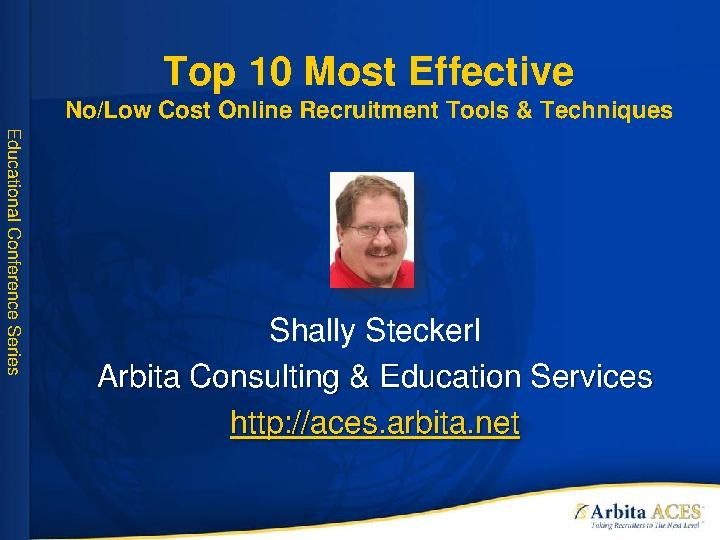paragraph: (53, 38, 687, 134)
subtitle: (75, 306, 670, 458)
